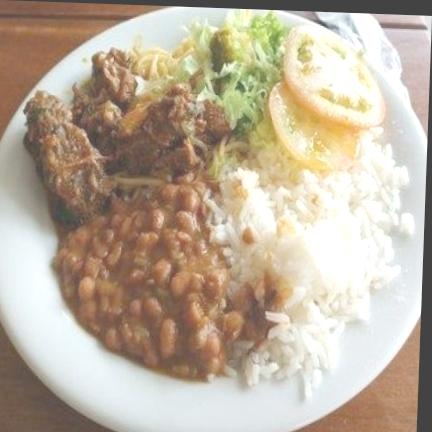beans: (54, 179, 248, 379)
meat: (24, 48, 230, 228)
rice: (204, 122, 412, 394)
salad: (169, 9, 288, 135)
tomato: (269, 25, 384, 169)
